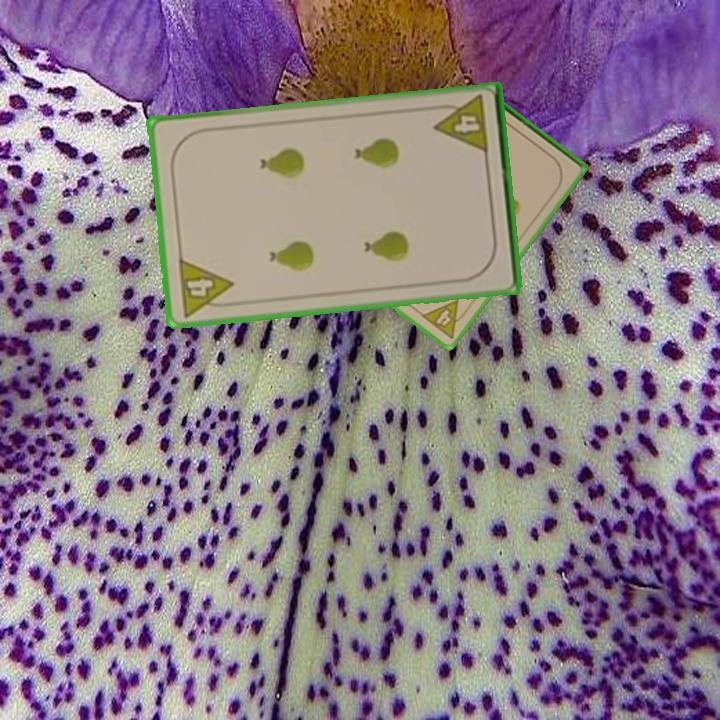4p: (174, 255, 238, 320), (430, 92, 491, 157), (418, 297, 472, 342)
